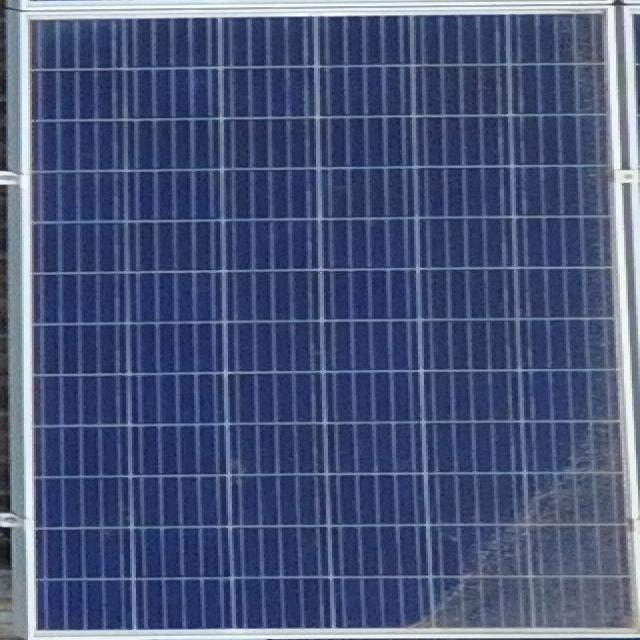Dust: (420, 401, 625, 636)
